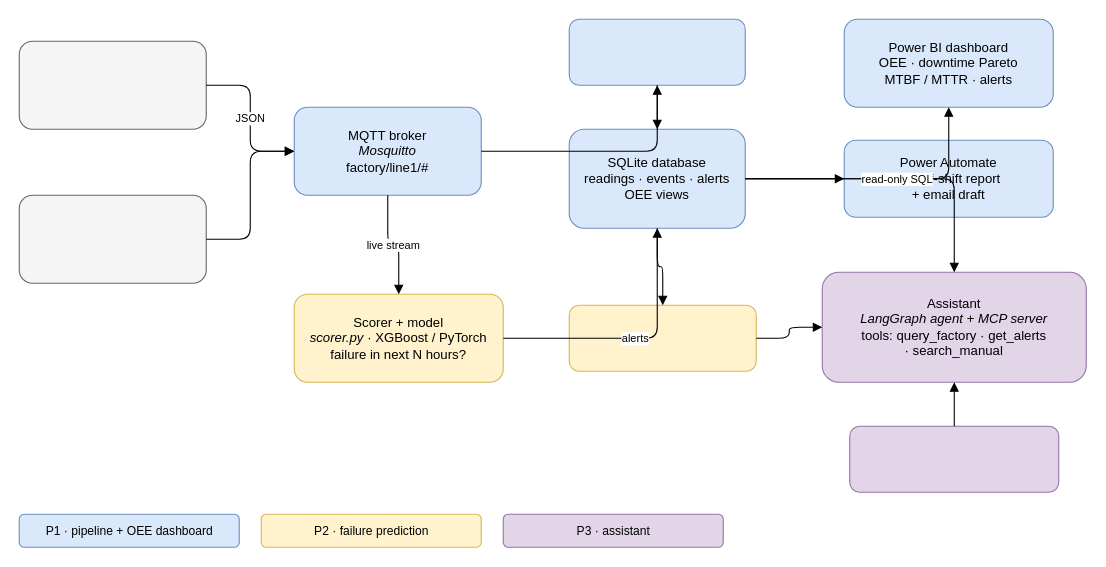
The diagram is 1106 pixels wide and 567 high, and some of its shapes have lost their labels. Here are the shapes that lost their labels. From the top down, the box of each, then its label:
(568, 18, 745, 85): Subscriber subscriber.py
(18, 40, 206, 129): Machines M1–M3 simulator.py (AI4I 2020 data)
(18, 194, 206, 283): Compressor C1 MetroPT-3 replay (real data)
(568, 304, 756, 371): Factory API FastAPI · Docker · Azure
(849, 425, 1059, 492): Machine manuals (PDFs → Chroma, RAG)
